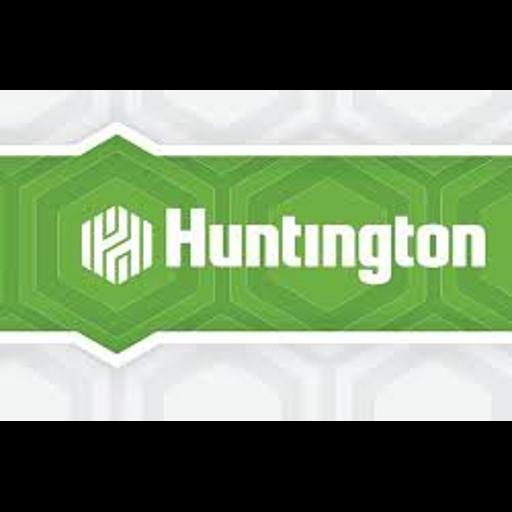Huntington Bank: (0, 90, 512, 421)
